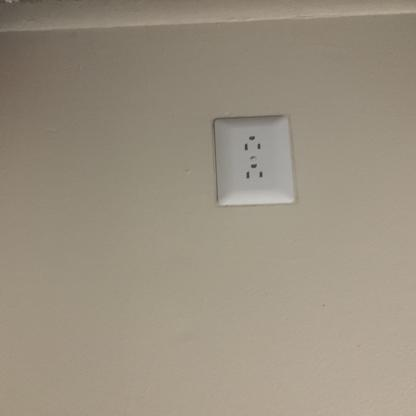OUTLET: (216, 116, 294, 206)
